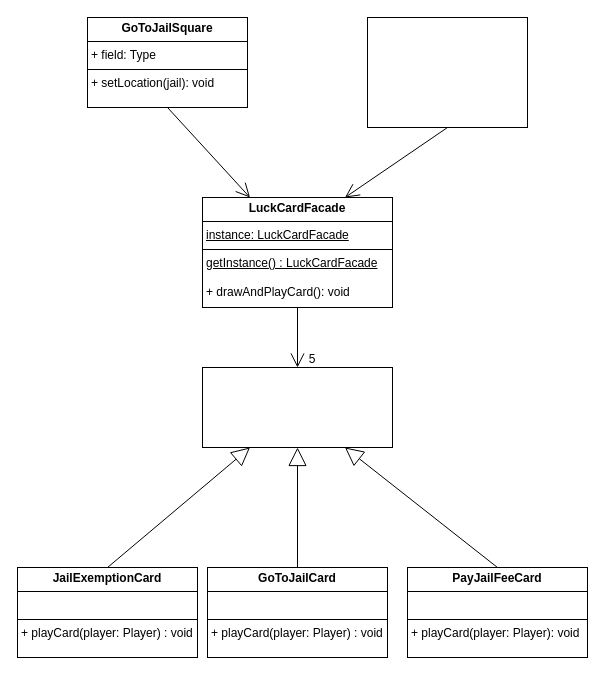
Some shapes in this 605 by 675 pixel diagram are drawn without their labels. The box of each missing label's shape, as (x1, y1, x2, y2) in pixels:
Card + playCard(player: Player) : void: (202, 366, 392, 448)
Player - cash: int - name: String - location: Square + roll(): (366, 16, 528, 128)
